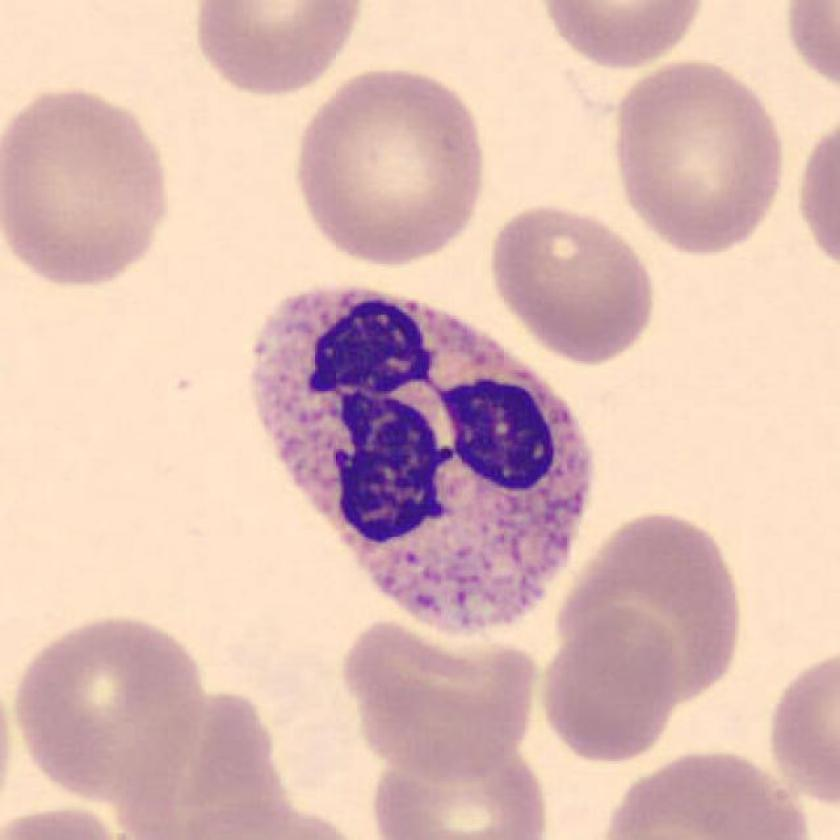neutrophil: (254, 290, 592, 634)
